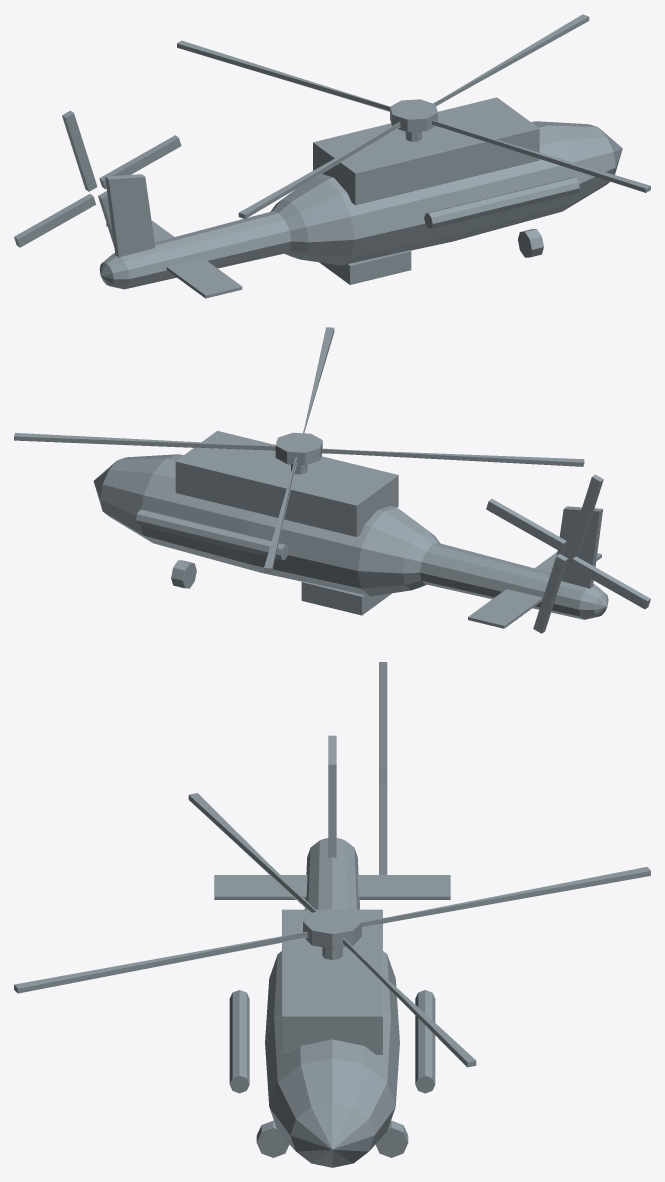
File: usn_helo_mh60s.glb
3 views of the same model, one above another, from view 1: azimuth 30°, elevation 25°; view 2: azimuth 150°, elevation 25°; view 3: azimuth 270°, elevation 25° (orthographic). The views are drawn at different scales.
Visible parts, largest first — view 1: usn_helo_mh60s; view 2: usn_helo_mh60s; view 3: usn_helo_mh60s.
Boxes of the visible parts, box(x1,y1,x2,y2) form: usn_helo_mh60s: box(14, 14, 650, 298); usn_helo_mh60s: box(14, 327, 650, 633); usn_helo_mh60s: box(14, 662, 650, 1167).
Size of the model in its own units: 10 by 3.32 by 7.62.
